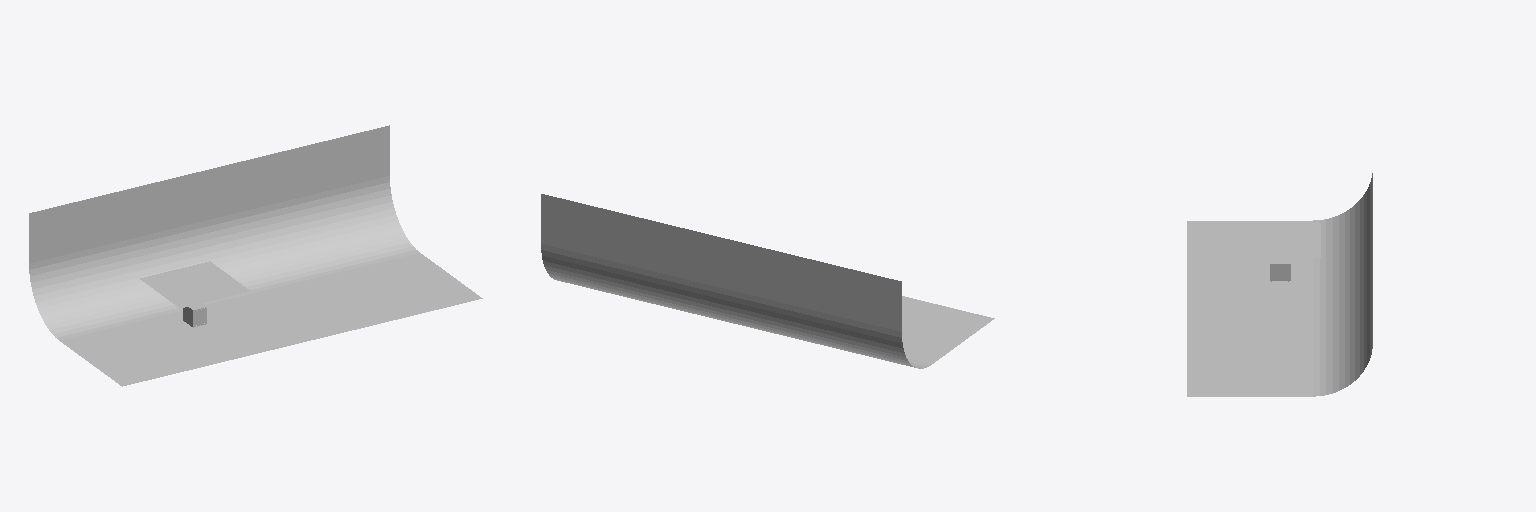
The model's file is Closet.obj.
3 views of the same model, side by side, from view 1: azimuth 30°, elevation 25°; view 2: azimuth 150°, elevation 25°; view 3: azimuth 270°, elevation 25° (orthographic).
Visible parts, largest first — view 1: Plane_Plane.004, Plane.001_Plane.006; view 2: Plane_Plane.004; view 3: Plane_Plane.004, Plane.001_Plane.006.
Boxes of the visible parts, <box> form: Plane_Plane.004: <box>29,125,482,386</box>; Plane.001_Plane.006: <box>140,261,249,308</box>; Plane_Plane.004: <box>541,194,994,368</box>; Plane_Plane.004: <box>1187,173,1372,396</box>; Plane.001_Plane.006: <box>1239,223,1320,257</box>.
Size of the model in its own units: 22.6 by 6.29 by 10.1.